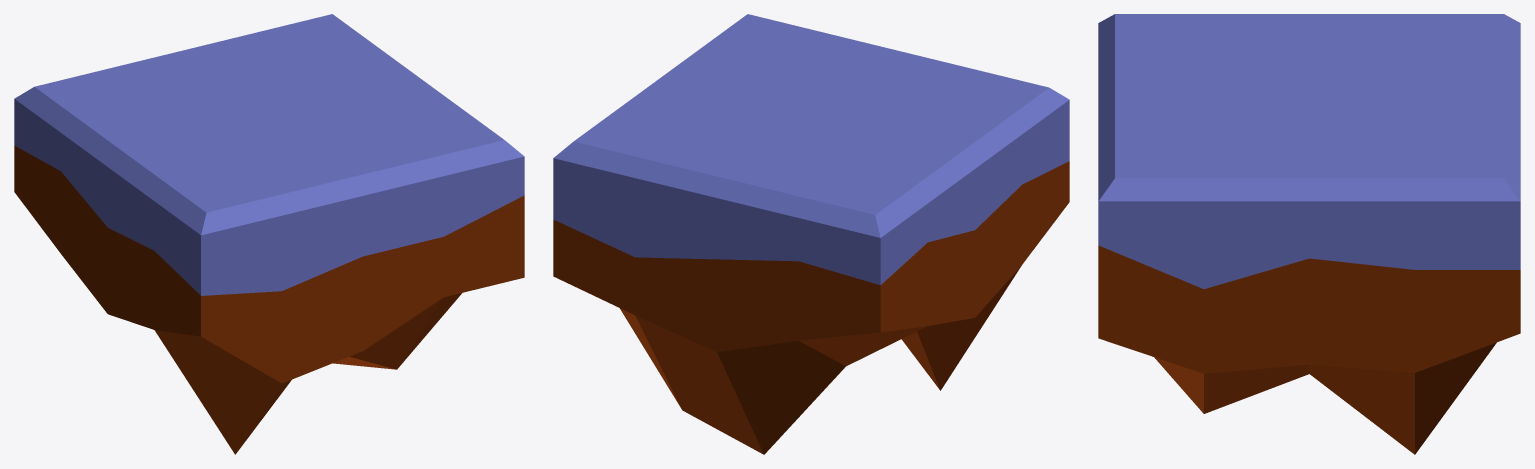
Rendered from water platform.glb.
3 views of the same model, side by side, from view 1: azimuth 30°, elevation 25°; view 2: azimuth 150°, elevation 25°; view 3: azimuth 270°, elevation 25° (orthographic). The views are drawn at different scales.
Visible parts, largest first — view 1: platform; view 2: platform; view 3: platform.
Boxes of the visible parts, x1=… form: platform: x1=14, y1=14, x2=524, y2=454; platform: x1=553, y1=14, x2=1069, y2=454; platform: x1=1098, y1=14, x2=1520, y2=454.
Size of the model in its own units: 2 by 1.79 by 2.
